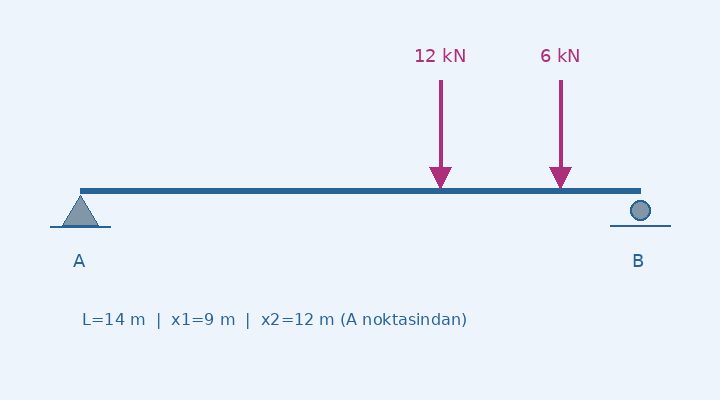pin_support: (61, 190, 99, 226)
point_load: (426, 76, 454, 190), (546, 76, 574, 190)
roller_support: (625, 196, 655, 227)
